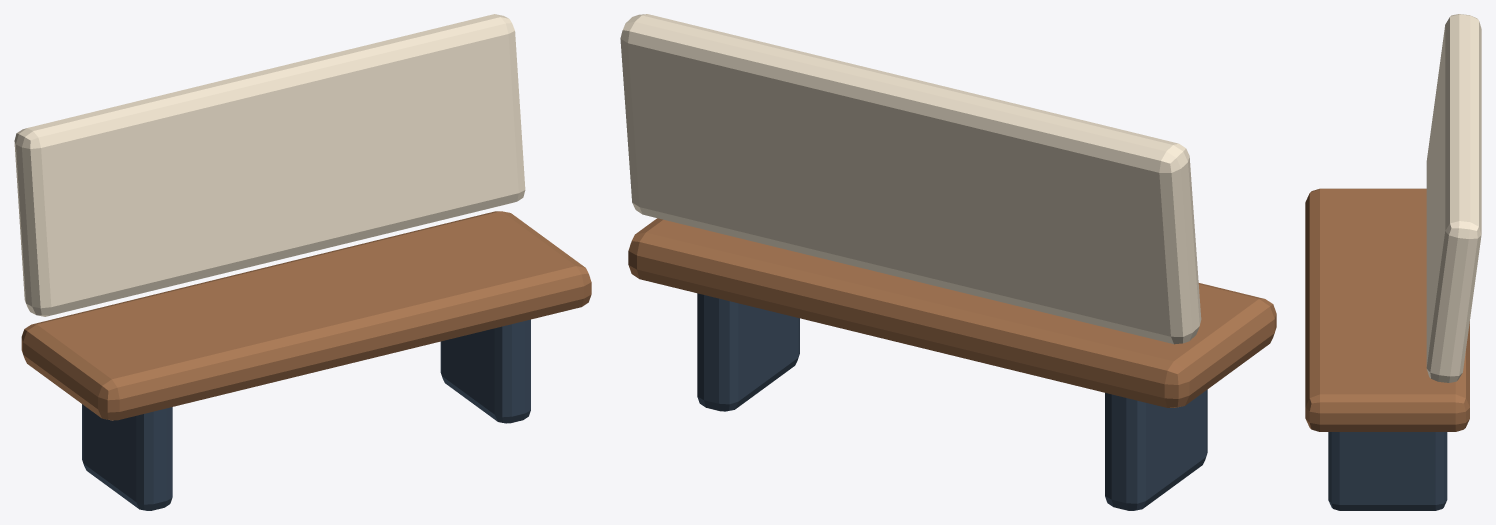
The model's file is CR_Bench.fbx.
3 renders of one model, left to right at view 1: azimuth 30°, elevation 25°; view 2: azimuth 150°, elevation 25°; view 3: azimuth 270°, elevation 25°, orthographic. The views are drawn at different scales.
Visible parts, largest first — view 1: Back_Cream, Seat_Wood, Leg_Ink, Leg_Ink.001; view 2: Back_Cream, Seat_Wood, Leg_Ink, Leg_Ink.001; view 3: Seat_Wood, Back_Cream, Leg_Ink.001.
Boxes of the visible parts, bbox=[...] form: Back_Cream: bbox=[14, 14, 525, 316]; Seat_Wood: bbox=[21, 211, 591, 420]; Leg_Ink: bbox=[82, 404, 172, 510]; Leg_Ink.001: bbox=[440, 319, 530, 423]; Back_Cream: bbox=[620, 14, 1201, 344]; Seat_Wood: bbox=[628, 218, 1276, 407]; Leg_Ink: bbox=[1105, 389, 1207, 510]; Leg_Ink.001: bbox=[697, 293, 799, 411]; Seat_Wood: bbox=[1305, 188, 1469, 431]; Back_Cream: bbox=[1426, 14, 1481, 382]; Leg_Ink.001: bbox=[1328, 432, 1447, 510].
Bounding box in the file's own units: 2.25 × 1.5 × 0.7701.
